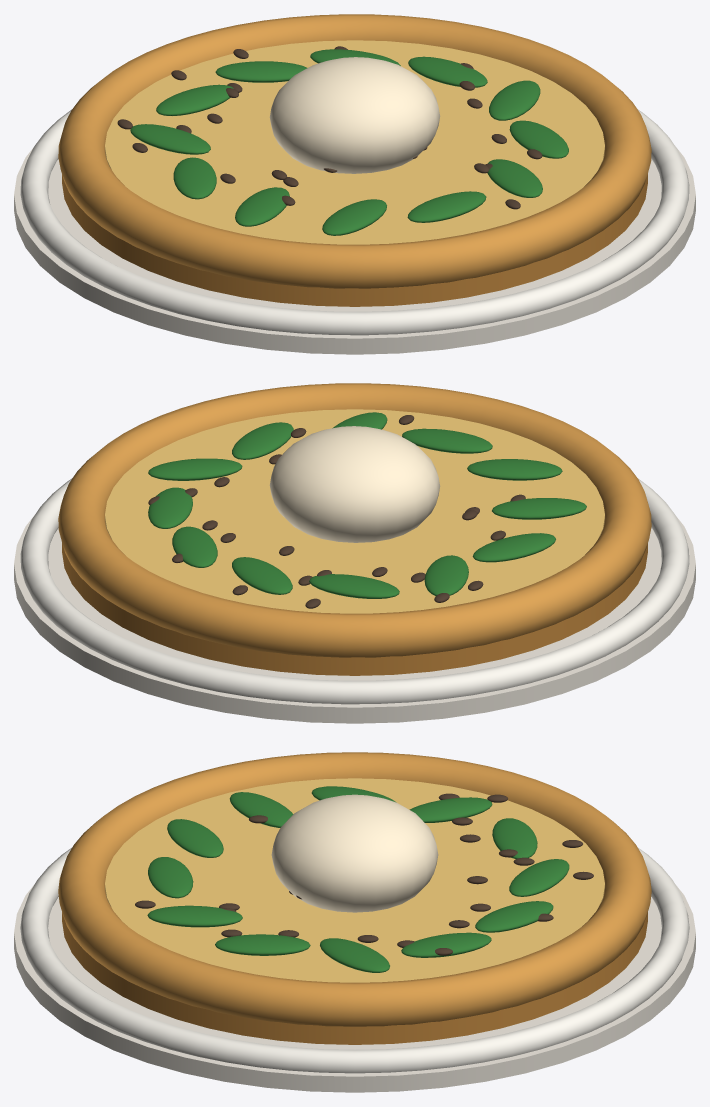
File: pizza.glb
3 views of the same model, one above another, from view 1: azimuth 30°, elevation 25°; view 2: azimuth 150°, elevation 25°; view 3: azimuth 270°, elevation 25° (orthographic).
Visible parts, largest first — view 1: Stylized demo pizza; view 2: Stylized demo pizza; view 3: Stylized demo pizza.
Boxes of the visible parts, x1=… form: Stylized demo pizza: x1=14, y1=14, x2=695, y2=354; Stylized demo pizza: x1=14, y1=383, x2=695, y2=723; Stylized demo pizza: x1=14, y1=752, x2=695, y2=1092.
Bounding box in the file's own units: 2.7 × 0.62 × 2.7.
